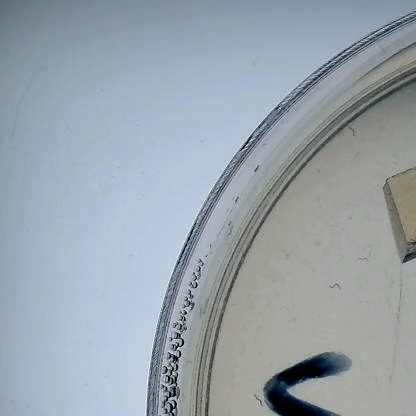worm: (352, 252, 371, 264), (250, 392, 264, 408), (324, 281, 344, 292)
